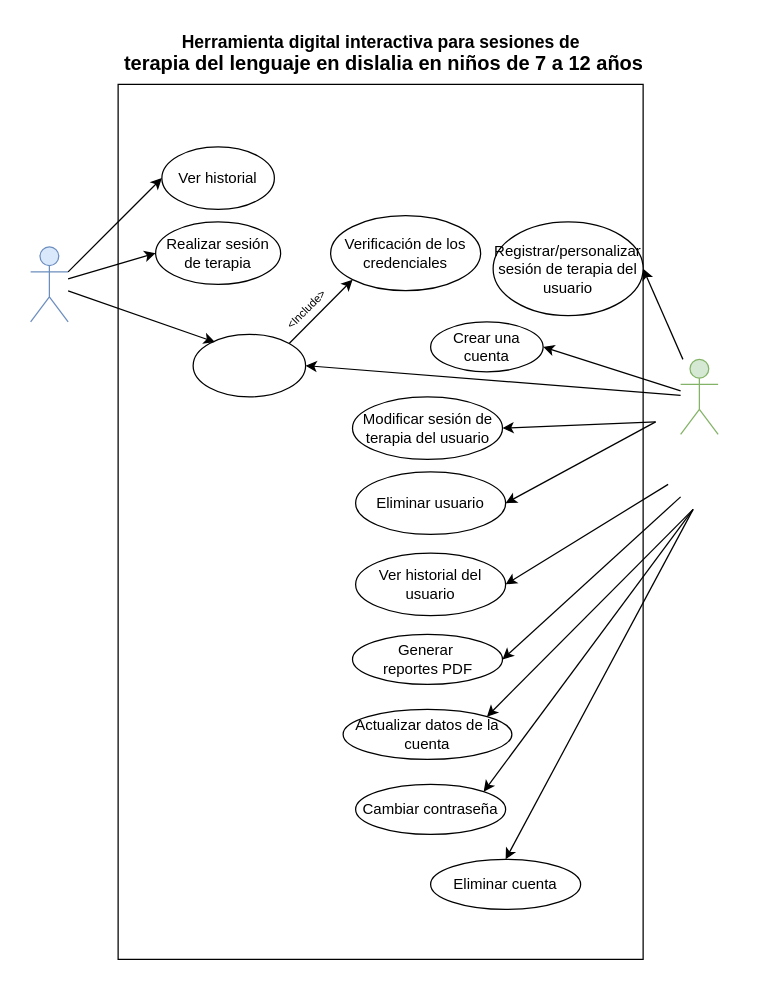
The diagram is 768 pixels wide and 981 high, and some of its shapes have lost their labels. The centre of each missing label's shape, as x and y in pixels:
"Administrador (Terapeuta)" goes at point 698,396.
"Iniciar sesión" goes at point 249,365.
"Usuario (Niño/a)" goes at point 48,284.
